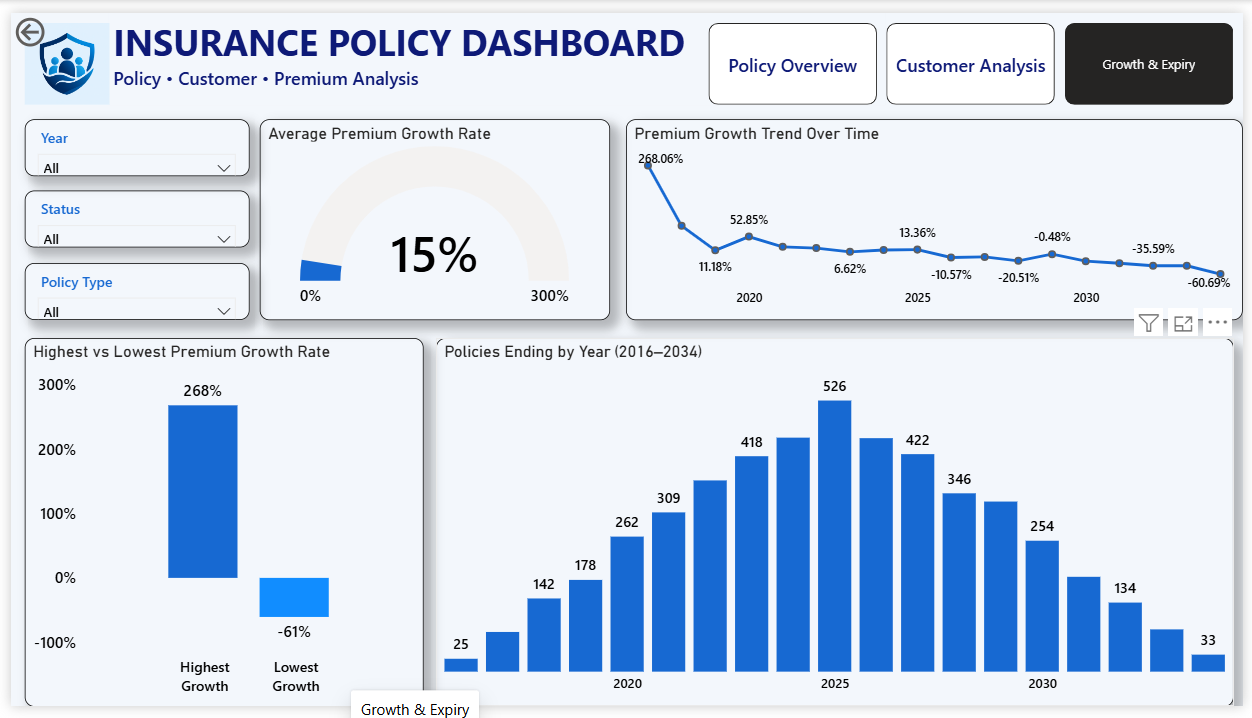

The page's visual inventory and layout, read from the dashboard file:
{"tool":"powerbi","page":{"name":"Growth & Expiry","canvas":[1280,720],"ordinal":2},"visuals":[{"type":"textbox","box":[101.5,0,806.9,96.1],"z":0},{"type":"image","box":[13.7,11,87.8,85.1],"z":1000},{"type":"pageNavigator","box":[724.5,11,546.1,85.1],"z":2000},{"type":"gauge","title":"Average Premium Growth Rate","fields":{"Y":["Policy Details.Average Premium Growth Rate"],"MaxValue":["Policy Details.Gauge Maximum"]},"box":[258,109.8,363.6,208.6],"z":3000},{"type":"actionButton","box":[0,0,48,39.8],"z":4000},{"type":"lineChart","title":"Premium Growth Trend Over Time","fields":{"Category":["Calendar.Date.Variation.Date Hierarchy.Year"],"Y":["Policy Details.Yearly Premium Growth %"]},"box":[639.5,109.8,640.8,208.6],"z":5000},{"type":"columnChart","title":"Highest vs Lowest Premium Growth Rate","fields":{"Category":["Growth Comparison.Growth Category"],"Y":["Growth Comparison.Growth Comparison Value"]},"box":[13.7,337.6,414.4,382.8],"z":6000},{"type":"columnChart","title":"Policies Ending by Year (2016–2034)","fields":{"Category":["Calendar.Year"],"Y":["Policy Details.Total Policies"]},"box":[441.9,337.6,828.8,382.8],"z":7000},{"type":"slicer","fields":{"Values":["Calendar.Year"]},"box":[13.7,109.8,233.3,59],"z":8000},{"type":"slicer","fields":{"Values":["Policy Details.Status"]},"box":[13.7,183.9,233.3,59],"z":9000},{"type":"slicer","fields":{"Values":["Policy Details.Policy Type"]},"box":[13.7,259.3,233.3,59],"z":10000}]}

Visuals, with their boxes in screenshot pixels (x1, y1, x2, y2), scaled from the page's 1280x720 canvas onto the 1252x718 screenshot:
textbox: left=99, top=0, right=889, bottom=96
image: left=13, top=11, right=99, bottom=96
pageNavigator: left=709, top=11, right=1243, bottom=96
"Average Premium Growth Rate" gauge: left=252, top=109, right=608, bottom=318
actionButton: left=0, top=0, right=47, bottom=40
"Premium Growth Trend Over Time" lineChart: left=626, top=109, right=1251, bottom=318
"Highest vs Lowest Premium Growth Rate" columnChart: left=13, top=337, right=419, bottom=717
"Policies Ending by Year (2016–2034)" columnChart: left=432, top=337, right=1243, bottom=717
slicer - Calendar.Year: left=13, top=109, right=242, bottom=168
slicer - Policy Details.Status: left=13, top=183, right=242, bottom=242
slicer - Policy Details.Policy Type: left=13, top=259, right=242, bottom=317
